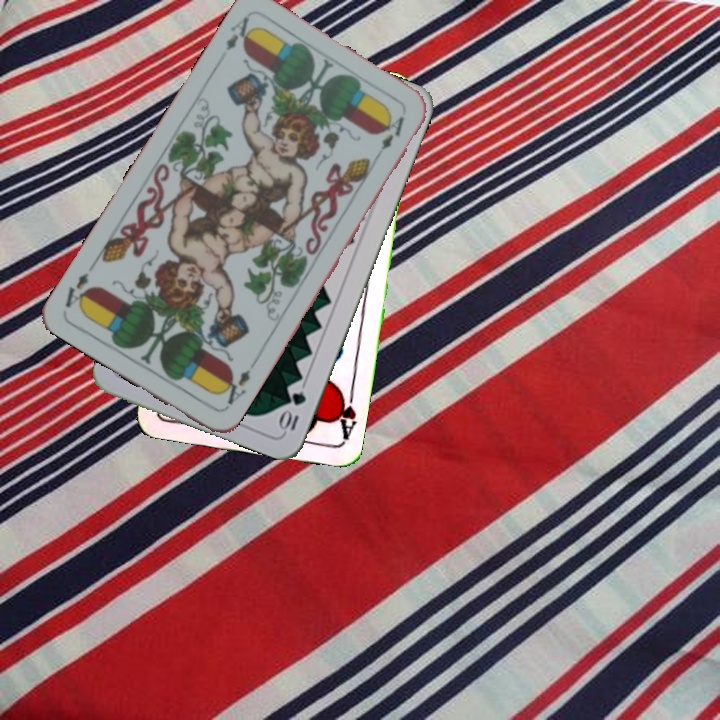EA: (215, 365, 253, 412), (221, 12, 259, 53)
G10: (276, 387, 309, 435)
HA: (331, 384, 359, 443)
